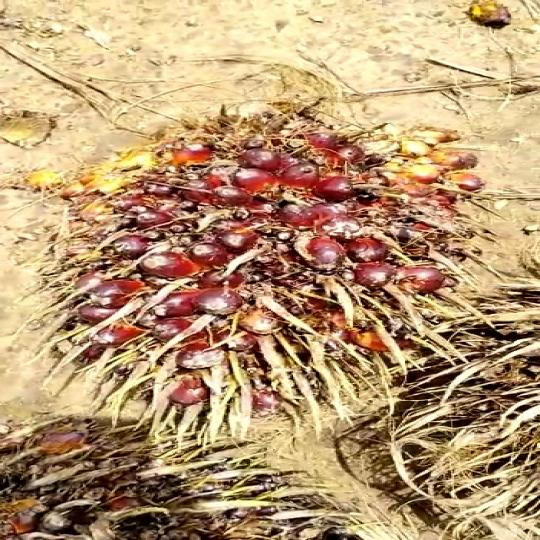kurang masak: (78, 85, 467, 386)
